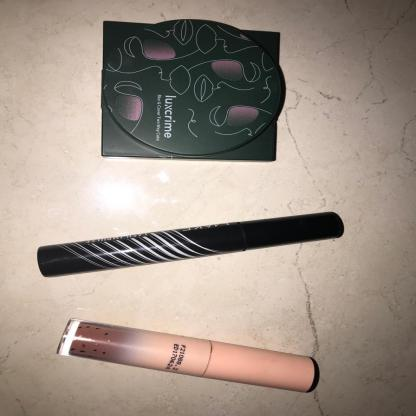lipstick: (39, 311, 372, 409)
